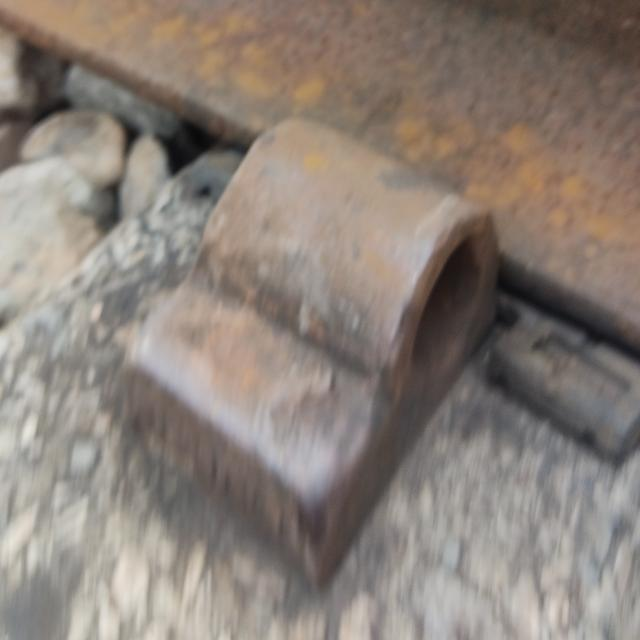track_bolt_missing: (190, 110, 508, 393)
